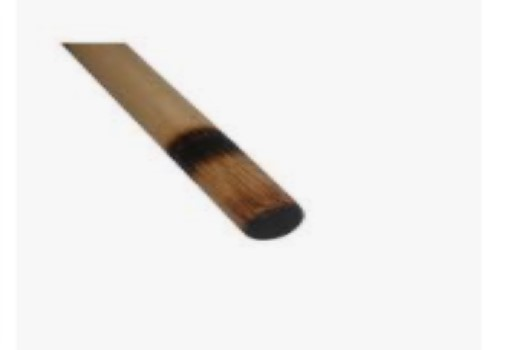baston_e: (71, 56, 298, 197)
baston_v: (207, 186, 309, 257), (60, 33, 144, 77)
